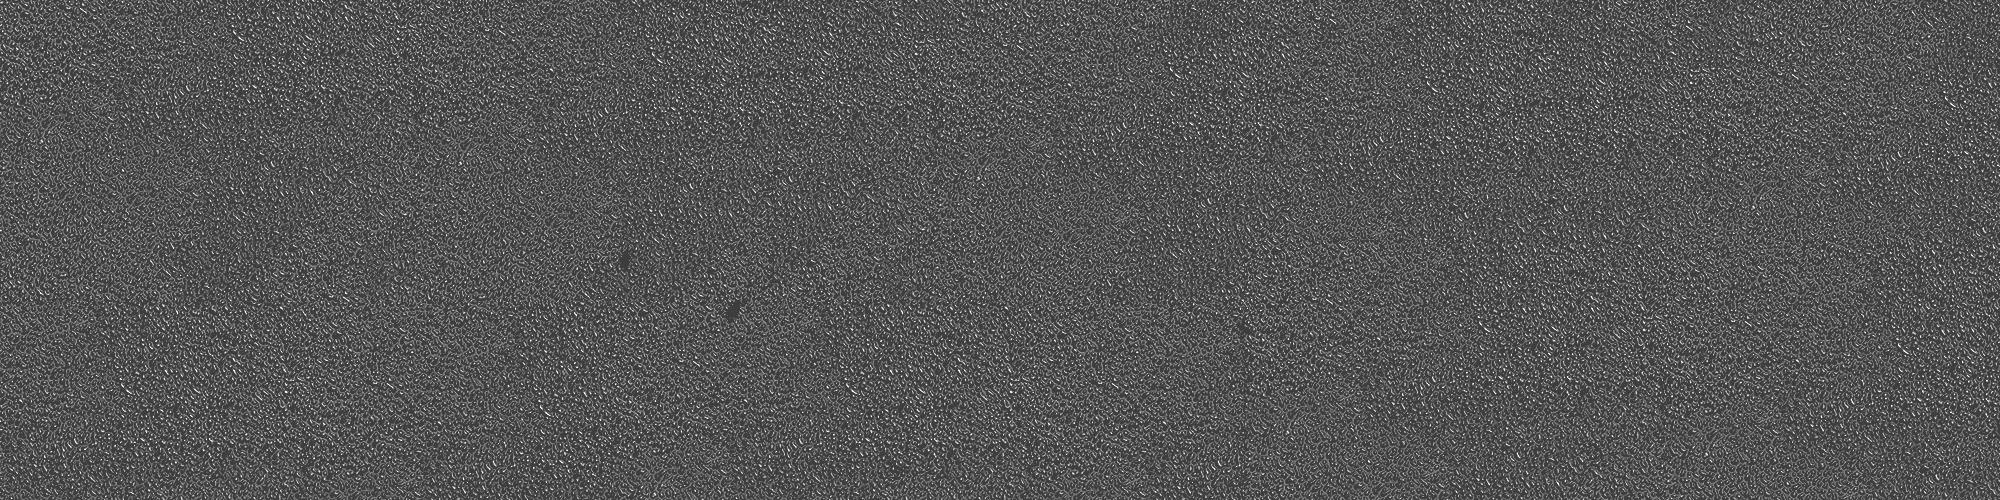Decomposed: (719, 295, 749, 324), (614, 250, 639, 276), (1236, 320, 1261, 339)
